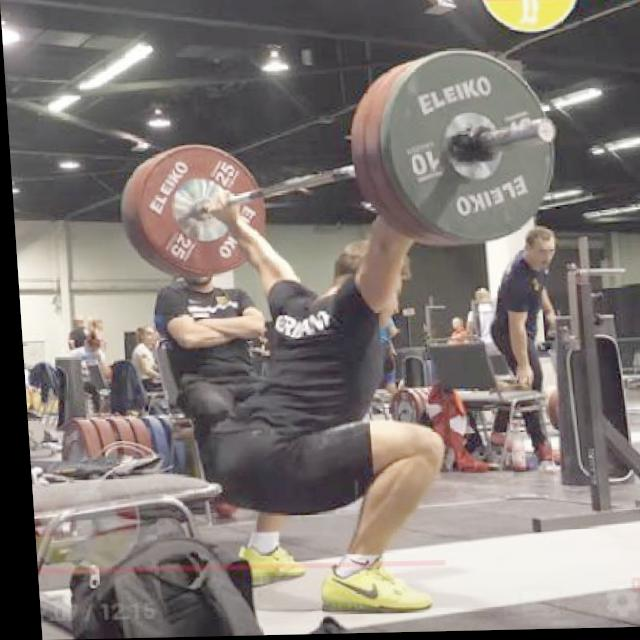barbell: (374, 48, 574, 254)
